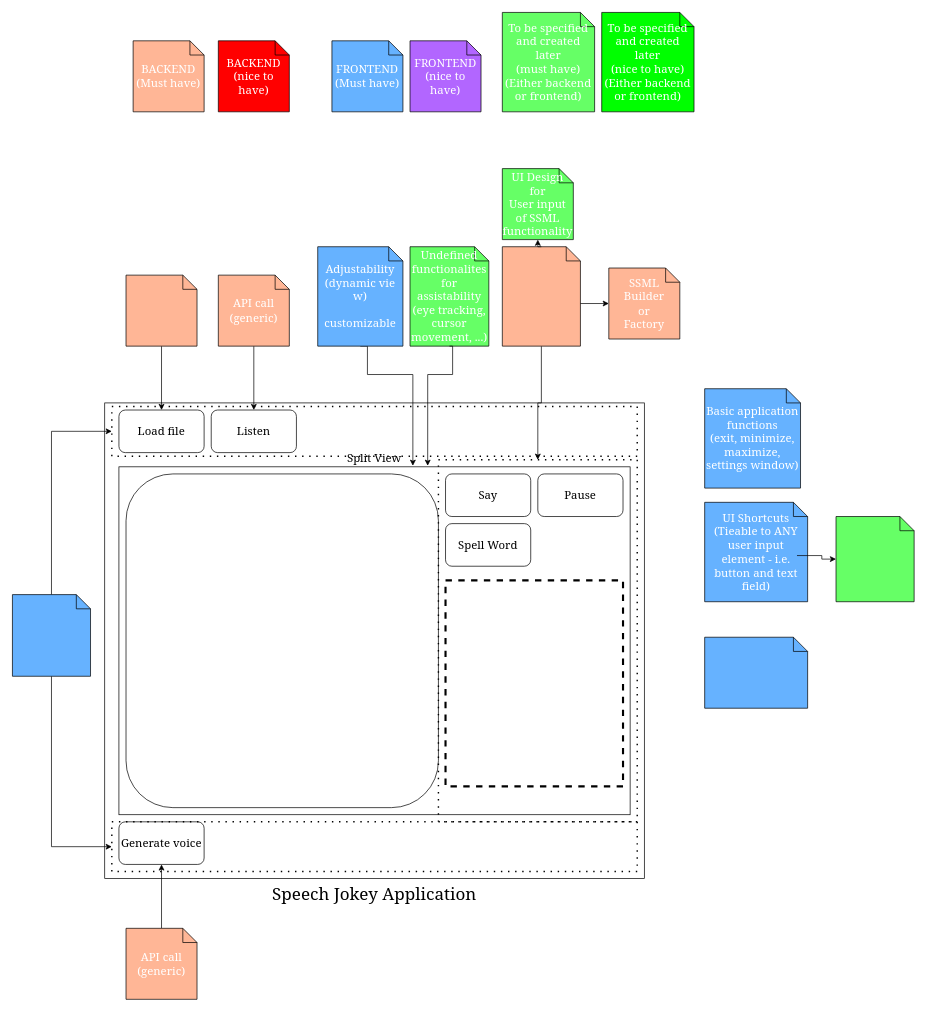
This 927x1012 diagram has some shape labels left out. The centre of each missing label's shape, as x and y in pixels:
... more SSML buttons ...: [534,683]
Input text field: [281,640]
Load function: [161,310]
MVP UI elements (Input field, button, toolbar, layout ...): [756,672]
Needs further specification: [874,559]
SSML Generation with varying parameters (semi-generic): [541,296]
Toolbars with varying functionality (components): [51,635]
